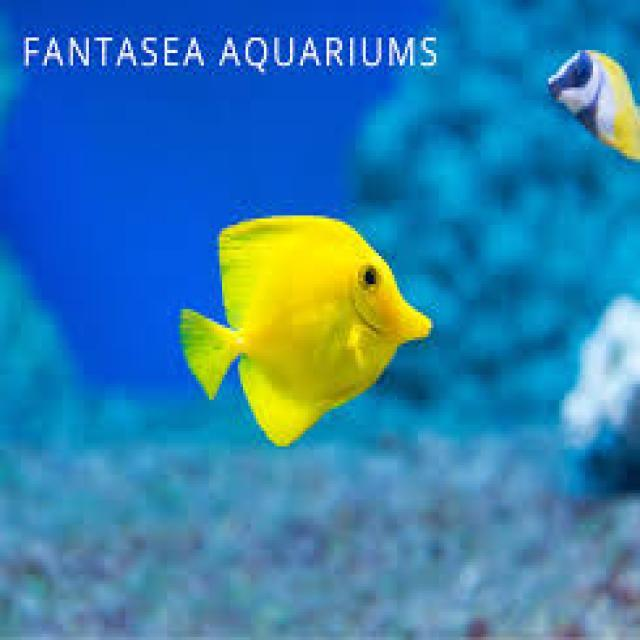YellowTang: (161, 201, 442, 457)
